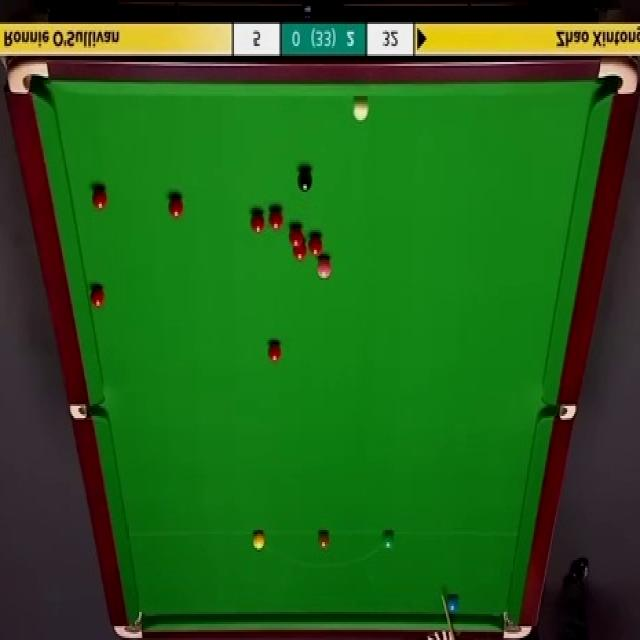black-ball: (297, 166, 314, 192)
blue-ball: (445, 593, 461, 618)
brown-ball: (317, 529, 331, 549)
green-ball: (382, 528, 396, 550)
pink-ball: (314, 255, 332, 279)
red-ball: (92, 184, 108, 212), (250, 210, 266, 237), (167, 195, 184, 219), (267, 340, 283, 364), (307, 235, 324, 257), (288, 224, 304, 247), (269, 208, 284, 232), (89, 285, 104, 309), (291, 240, 308, 261)
white-ball: (353, 97, 369, 121)
yellow-ball: (252, 530, 266, 550)
